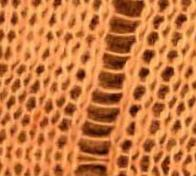slub: (73, 0, 146, 176)
